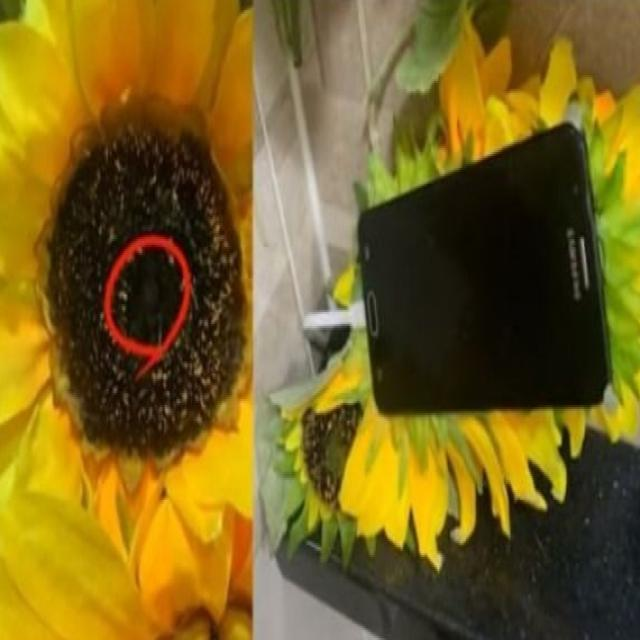hidden camera: (131, 269, 164, 318)
